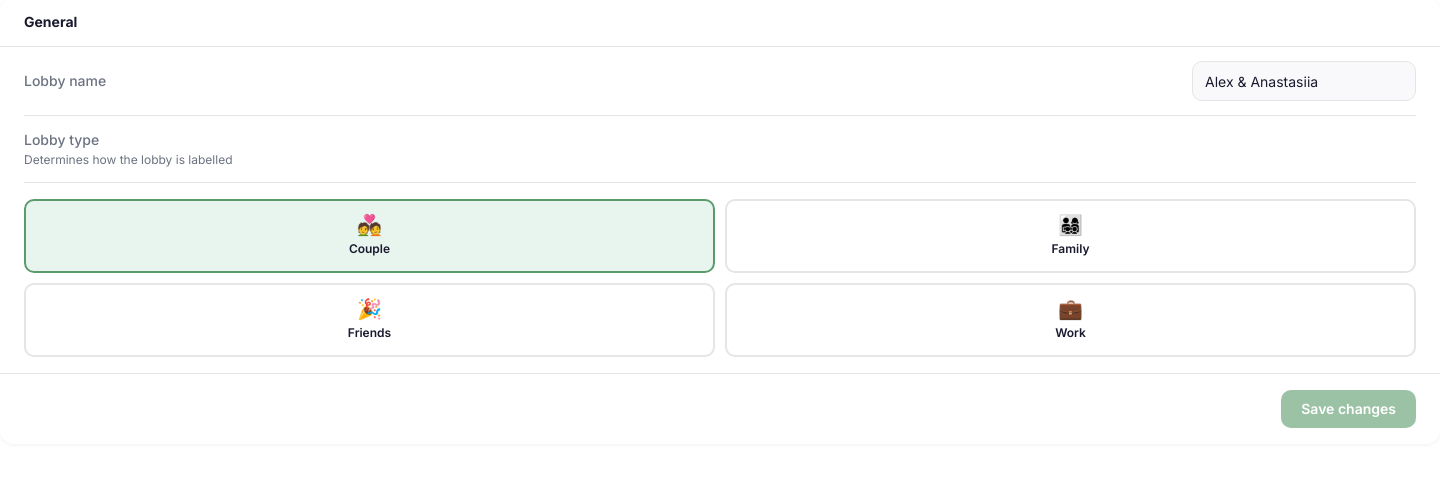
Scenario: LobbyGeneralCard › shows a forbidden error message on 403
Type "x" into the field named "Lobby name" at x=1304, y=81, box left=1192, top=61, right=1416, bottom=101
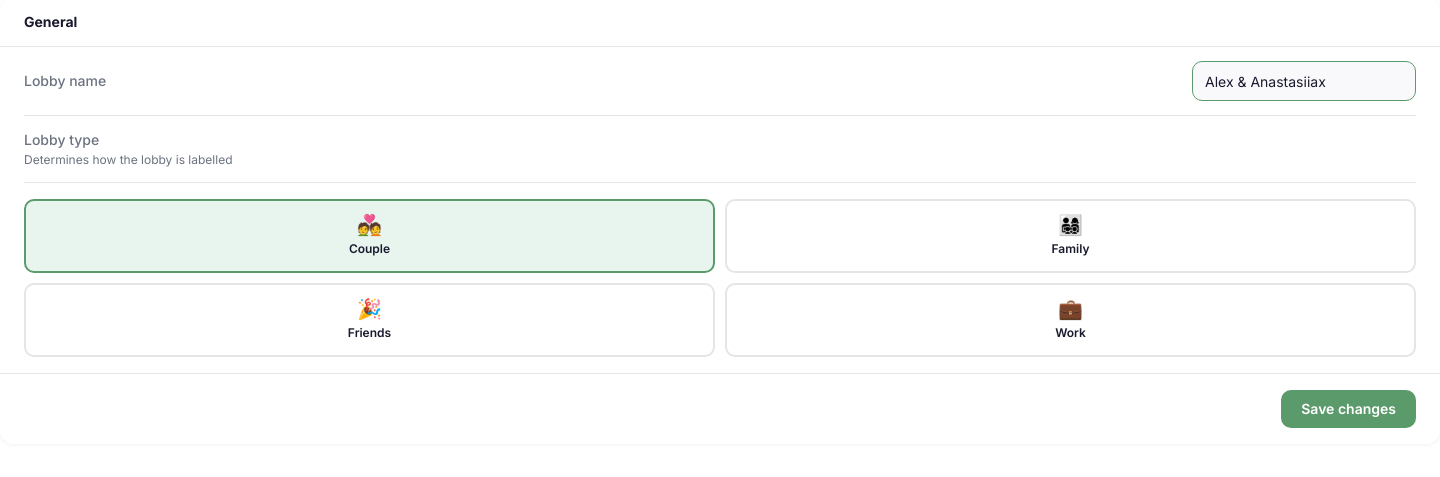
Click the button "Save changes" at x=1349, y=409, box left=1281, top=390, right=1416, bottom=428
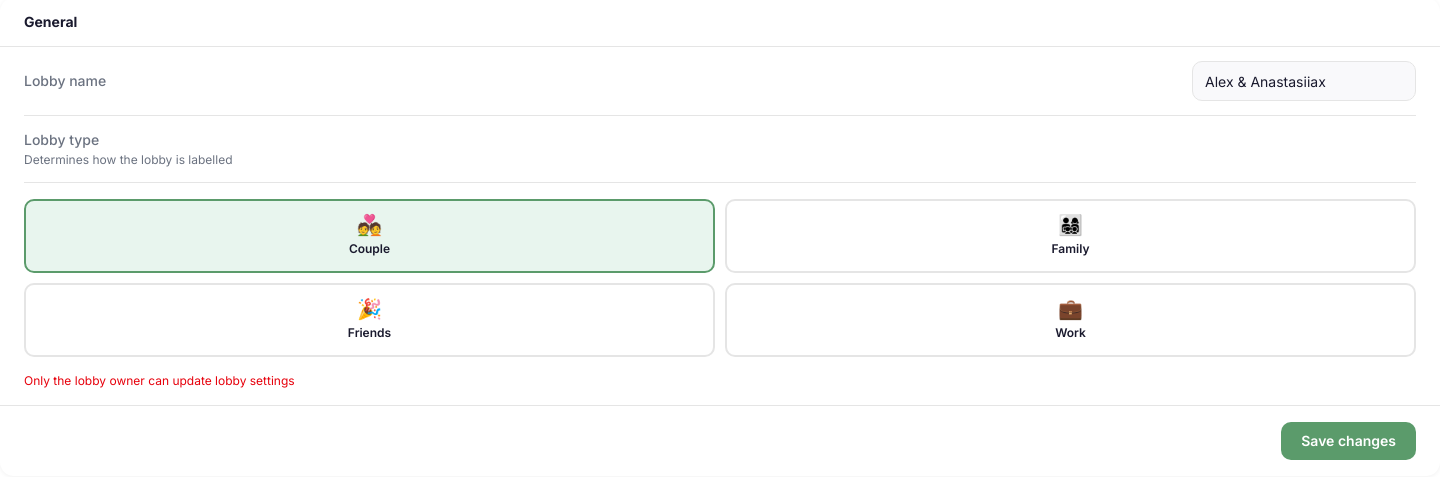
expect the message reads "Only the lobby owner can update lobby settings": met, box left=24, top=373, right=295, bottom=388
